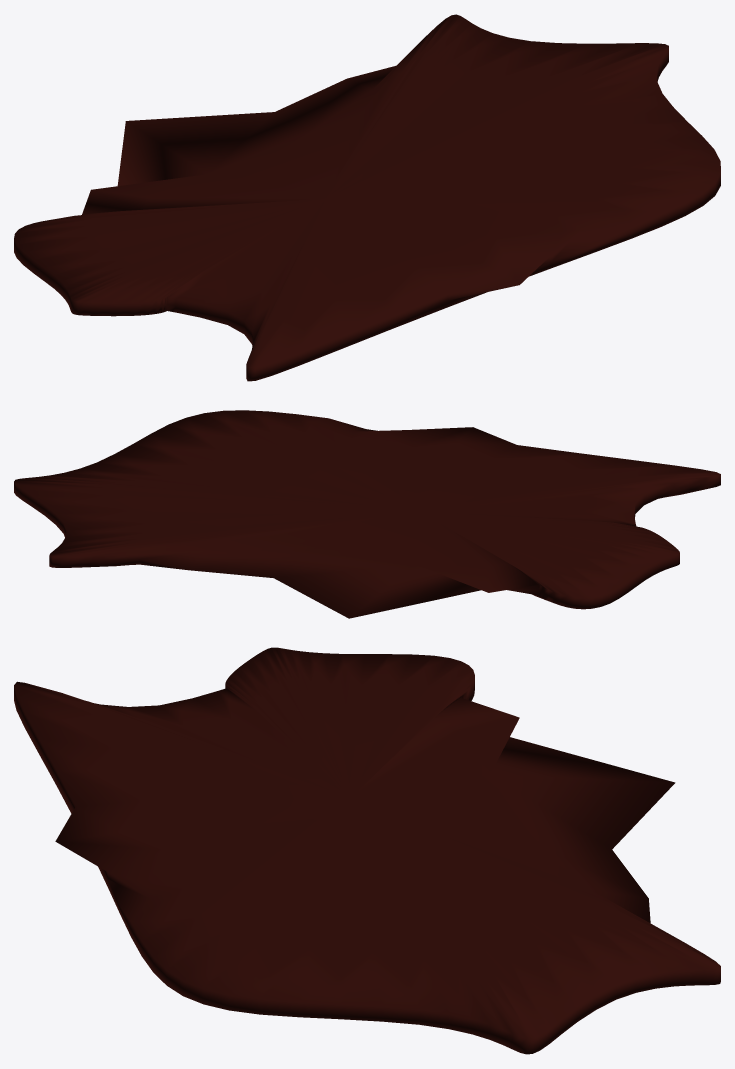
The model's file is Blood pool.fbx.
The picture shows the model from 3 angles, top to bottom: view 1: azimuth 30°, elevation 25°; view 2: azimuth 150°, elevation 25°; view 3: azimuth 270°, elevation 25°; orthographic projection. The views are drawn at different scales.
Parts seen in each view (by area): view 1: Line001; view 2: Line001; view 3: Line001.
Boxes of the visible parts, box(x1,y1,x2,y2) form: Line001: box(14, 14, 720, 381); Line001: box(14, 410, 720, 618); Line001: box(14, 647, 720, 1054).
Size of the model in its own units: 68.41 by 2.5 by 52.19.
